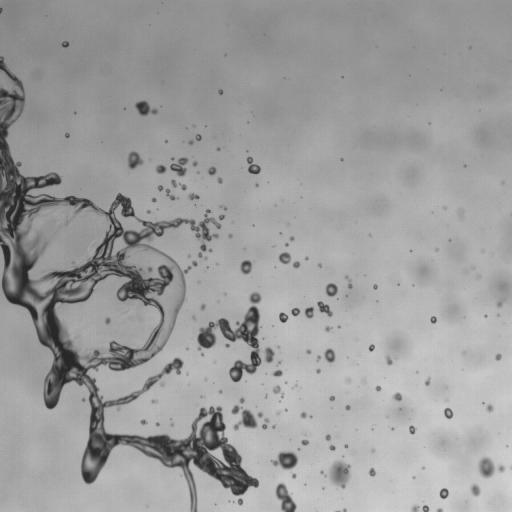droplet: (320, 459, 351, 489), (270, 451, 298, 479), (478, 456, 505, 478), (134, 100, 158, 116), (170, 157, 188, 177), (127, 150, 143, 169), (246, 156, 260, 175), (263, 346, 275, 363), (325, 282, 337, 297), (324, 348, 335, 364), (240, 260, 252, 274), (272, 384, 284, 398), (469, 483, 481, 497), (278, 252, 291, 264), (442, 407, 453, 419), (304, 306, 314, 319), (438, 488, 449, 499), (9, 149, 20, 160), (18, 165, 29, 176), (164, 168, 175, 179), (45, 184, 56, 195), (197, 197, 208, 208), (149, 235, 160, 246), (241, 343, 252, 354), (43, 350, 54, 361), (257, 360, 268, 371), (152, 361, 163, 372), (35, 381, 46, 392), (62, 381, 73, 392), (78, 384, 89, 395), (382, 386, 393, 397), (99, 389, 110, 400), (334, 396, 345, 407), (221, 412, 232, 423), (104, 423, 115, 434), (140, 426, 151, 437), (222, 427, 233, 438), (176, 429, 187, 440), (110, 444, 121, 455), (329, 450, 340, 461), (97, 467, 108, 478), (279, 468, 290, 479), (474, 474, 485, 485), (324, 479, 335, 490), (286, 485, 297, 496), (431, 496, 442, 507), (155, 164, 167, 174), (278, 312, 288, 322), (289, 307, 300, 316), (271, 368, 282, 377), (187, 192, 199, 200), (207, 166, 217, 175), (496, 298, 505, 308), (103, 315, 112, 325), (392, 392, 402, 401), (135, 314, 144, 323), (3, 58, 12, 67), (4, 134, 13, 143), (199, 163, 208, 172), (171, 186, 180, 195), (28, 187, 37, 196), (210, 209, 219, 218), (165, 212, 174, 221), (146, 213, 155, 222), (193, 214, 202, 223), (180, 222, 189, 231), (322, 295, 331, 304), (488, 305, 497, 314), (20, 307, 29, 316), (212, 327, 221, 336), (235, 337, 244, 346), (257, 349, 266, 358), (242, 355, 251, 364), (99, 363, 108, 372), (241, 401, 250, 410), (102, 406, 111, 415), (233, 412, 242, 421), (146, 415, 155, 424), (151, 427, 160, 436), (80, 432, 89, 441), (491, 457, 500, 466), (322, 463, 331, 472), (246, 468, 255, 477), (491, 469, 500, 478), (178, 477, 187, 486), (385, 355, 393, 365), (368, 467, 376, 477), (458, 208, 464, 220), (485, 403, 493, 412), (409, 425, 417, 434), (232, 505, 243, 511), (272, 505, 283, 511), (324, 325, 333, 332), (424, 376, 430, 386), (292, 261, 300, 268), (199, 303, 206, 311), (344, 376, 351, 384), (430, 315, 436, 324), (300, 439, 309, 445), (368, 344, 375, 351), (135, 95, 142, 102), (23, 96, 30, 103), (147, 101, 154, 108), (131, 107, 138, 114), (6, 126, 13, 133), (121, 159, 128, 166), (134, 164, 141, 171), (170, 170, 177, 177), (210, 173, 217, 180), (59, 174, 66, 181), (174, 175, 181, 182), (185, 186, 192, 193), (122, 190, 129, 197), (93, 199, 100, 206), (148, 202, 155, 209), (143, 214, 150, 221), (206, 222, 213, 229), (163, 227, 170, 234), (280, 245, 287, 252), (289, 255, 296, 262), (297, 256, 304, 263), (299, 259, 306, 266), (250, 263, 257, 270), (257, 288, 264, 295), (245, 300, 252, 307), (254, 301, 261, 308), (312, 305, 319, 312), (257, 308, 264, 315), (176, 311, 183, 318), (257, 317, 264, 324), (201, 321, 208, 328), (229, 323, 236, 330), (254, 332, 261, 339), (192, 340, 199, 347), (333, 350, 340, 357), (309, 352, 316, 359), (272, 353, 279, 360), (166, 356, 173, 363), (127, 366, 134, 373), (123, 367, 130, 374), (86, 368, 93, 375), (161, 373, 168, 380), (274, 375, 281, 382), (351, 377, 358, 384), (287, 378, 294, 385), (136, 382, 143, 389), (280, 384, 287, 391), (265, 386, 272, 393), (122, 389, 129, 396), (110, 393, 117, 400), (38, 400, 45, 407), (55, 401, 62, 408), (120, 403, 127, 410), (84, 406, 91, 413), (192, 409, 199, 416), (250, 409, 257, 416), (83, 416, 90, 423), (255, 417, 262, 424), (238, 423, 245, 430), (329, 437, 336, 444), (80, 441, 87, 448), (335, 442, 342, 449), (282, 446, 289, 453), (235, 447, 242, 454), (294, 450, 301, 457), (271, 453, 278, 460), (105, 456, 112, 463), (342, 457, 349, 464), (153, 458, 160, 465), (239, 461, 246, 468), (275, 463, 282, 470), (174, 465, 181, 472), (290, 465, 297, 472), (285, 467, 292, 474), (348, 467, 355, 474), (75, 472, 82, 479), (214, 479, 221, 486), (246, 485, 253, 492), (195, 488, 202, 495), (269, 488, 276, 495), (465, 488, 472, 495), (290, 494, 297, 501), (275, 498, 282, 505), (61, 41, 69, 47), (195, 134, 201, 141), (218, 214, 225, 220), (495, 353, 501, 360), (360, 378, 367, 384), (374, 385, 381, 391), (257, 411, 263, 418), (140, 419, 147, 425), (325, 434, 331, 441), (329, 444, 336, 450), (157, 185, 163, 191), (159, 381, 165, 387), (0, 251, 4, 260), (0, 289, 4, 298), (316, 355, 321, 362), (150, 399, 158, 403), (218, 89, 223, 95), (188, 139, 193, 145), (192, 160, 197, 166), (217, 177, 222, 183), (329, 396, 335, 401), (345, 404, 350, 410), (183, 507, 190, 511), (404, 507, 411, 511), (428, 507, 435, 511), (151, 197, 156, 202), (289, 236, 294, 241), (317, 262, 322, 267), (191, 315, 196, 320), (306, 349, 311, 354), (461, 350, 466, 355), (316, 368, 321, 373), (371, 448, 376, 453), (0, 0, 5, 5), (64, 36, 69, 41), (16, 74, 21, 79), (21, 81, 26, 86), (146, 111, 151, 116), (193, 139, 198, 144), (183, 141, 188, 146), (127, 147, 132, 152), (247, 151, 252, 156), (179, 152, 184, 157), (243, 152, 248, 157), (138, 153, 143, 158), (193, 156, 198, 161), (12, 158, 17, 163), (173, 158, 178, 163), (244, 162, 249, 167), (181, 163, 186, 168), (193, 165, 198, 170), (165, 166, 170, 171), (259, 168, 264, 173), (184, 170, 189, 175), (57, 171, 62, 176), (34, 172, 39, 177), (204, 172, 209, 177), (249, 172, 254, 177), (221, 177, 226, 182), (167, 183, 172, 188), (176, 184, 181, 189), (160, 189, 165, 194), (193, 189, 198, 194), (65, 191, 70, 196), (75, 193, 80, 198), (84, 194, 89, 199), (110, 195, 115, 200), (146, 196, 151, 201), (192, 197, 197, 202), (223, 201, 228, 206), (130, 202, 135, 207), (104, 206, 109, 211), (219, 209, 224, 214), (133, 210, 138, 215), (206, 212, 211, 217), (180, 214, 185, 219), (186, 215, 191, 220), (214, 216, 219, 221), (151, 218, 156, 223), (193, 221, 198, 226), (185, 222, 190, 227), (191, 229, 196, 234), (207, 230, 212, 235), (231, 231, 236, 236), (287, 231, 292, 236), (210, 236, 215, 241), (284, 237, 289, 242), (203, 239, 208, 244), (159, 246, 164, 251), (164, 249, 169, 254), (201, 250, 206, 255), (167, 251, 172, 256), (170, 253, 175, 258), (274, 253, 279, 258), (243, 255, 248, 260), (173, 256, 178, 261), (194, 256, 199, 261), (187, 260, 192, 265), (236, 260, 241, 265), (276, 260, 281, 265), (180, 265, 185, 270), (190, 265, 195, 270), (296, 266, 301, 271), (245, 272, 250, 277), (183, 273, 188, 278), (329, 278, 334, 283), (343, 279, 348, 284), (350, 280, 355, 285), (335, 282, 340, 287), (376, 282, 381, 287), (336, 287, 341, 292), (247, 289, 252, 294), (184, 291, 189, 296), (334, 292, 339, 297), (494, 296, 499, 301), (196, 301, 201, 306), (491, 301, 496, 306), (501, 302, 506, 307), (290, 303, 295, 308), (304, 303, 309, 308), (328, 306, 333, 311), (496, 307, 501, 312), (299, 308, 304, 313), (177, 309, 182, 314), (321, 311, 326, 316), (287, 312, 292, 317), (331, 312, 336, 317), (223, 314, 228, 319), (274, 315, 279, 320), (238, 318, 243, 323), (275, 318, 280, 323), (174, 319, 179, 324), (320, 324, 325, 329), (332, 325, 337, 330), (31, 328, 36, 333), (171, 328, 176, 333), (320, 328, 325, 333), (194, 330, 199, 335), (168, 334, 173, 339), (33, 335, 38, 340), (224, 338, 229, 343), (162, 345, 167, 350), (209, 345, 214, 350), (330, 345, 335, 350), (200, 346, 205, 351), (249, 346, 254, 351), (271, 346, 276, 351), (301, 347, 306, 352), (496, 348, 501, 353), (153, 353, 158, 358), (490, 353, 495, 358), (320, 354, 325, 359), (179, 355, 184, 360), (389, 355, 394, 360), (500, 355, 505, 360), (150, 356, 155, 361), (381, 358, 386, 363), (330, 360, 335, 365), (142, 361, 147, 366), (228, 362, 233, 367), (387, 364, 392, 369), (255, 365, 260, 370), (277, 365, 282, 370), (179, 366, 184, 371), (170, 368, 175, 373), (110, 369, 115, 374), (281, 370, 286, 375), (422, 375, 427, 380), (227, 377, 232, 382), (429, 379, 434, 384), (94, 381, 99, 386), (370, 384, 375, 389), (149, 385, 154, 390), (371, 388, 376, 393), (390, 389, 395, 394), (96, 390, 101, 395), (120, 392, 125, 397), (275, 392, 280, 397), (400, 392, 405, 397), (132, 398, 137, 403), (84, 399, 89, 404), (393, 399, 398, 404), (484, 399, 489, 404), (329, 400, 334, 405), (490, 401, 495, 406), (442, 403, 447, 408), (41, 404, 46, 409), (111, 404, 116, 409), (228, 404, 233, 409), (340, 404, 345, 409), (481, 404, 486, 409), (204, 406, 209, 411), (492, 406, 497, 411), (296, 409, 301, 414), (305, 410, 310, 415), (489, 410, 494, 415), (252, 413, 257, 418), (139, 414, 144, 419), (304, 415, 309, 420), (441, 415, 446, 420), (144, 416, 149, 421), (300, 417, 305, 422), (266, 422, 271, 427), (404, 427, 409, 432), (128, 430, 133, 435), (329, 432, 334, 437), (320, 434, 325, 439), (301, 435, 306, 440), (226, 439, 231, 444), (326, 440, 331, 445), (297, 442, 302, 447), (137, 450, 142, 455), (77, 455, 82, 460), (268, 462, 273, 467), (373, 466, 378, 471), (504, 466, 509, 471), (364, 467, 369, 472), (374, 472, 379, 477), (295, 473, 300, 478), (256, 476, 261, 481), (257, 481, 262, 486), (272, 483, 277, 488), (441, 483, 446, 488), (336, 485, 341, 490), (435, 487, 440, 492), (184, 489, 189, 494), (238, 493, 243, 498), (234, 494, 239, 499), (185, 495, 190, 500), (196, 506, 201, 511), (65, 132, 69, 138), (146, 210, 152, 214), (436, 508, 443, 511), (0, 69, 3, 76), (0, 248, 3, 255), (0, 287, 3, 294), (254, 183, 259, 187), (442, 206, 447, 210), (228, 233, 232, 238), (284, 242, 289, 246), (373, 284, 377, 289), (81, 397, 85, 402), (276, 410, 280, 415), (170, 422, 174, 427), (271, 424, 275, 429), (508, 464, 511, 470), (216, 147, 220, 151), (368, 233, 372, 237), (187, 254, 191, 258), (304, 256, 308, 260), (483, 314, 487, 318), (276, 345, 280, 349), (185, 346, 189, 350), (218, 389, 222, 393), (155, 422, 159, 426), (344, 444, 348, 448), (264, 393, 267, 398), (200, 395, 205, 398), (389, 427, 394, 430), (293, 508, 298, 511), (442, 508, 447, 511), (192, 124, 196, 127), (164, 139, 167, 143), (170, 157, 174, 160), (340, 157, 343, 161), (448, 238, 451, 242), (435, 248, 439, 251), (215, 262, 219, 265), (223, 292, 227, 295), (337, 325, 341, 328), (204, 377, 207, 381), (445, 385, 448, 389), (278, 399, 281, 403), (421, 466, 425, 469), (412, 475, 415, 479), (0, 51, 2, 56), (0, 275, 2, 280), (0, 280, 2, 285), (0, 285, 2, 290), (468, 46, 471, 49), (123, 107, 126, 110), (463, 164, 466, 167), (196, 171, 199, 174), (501, 181, 504, 184), (156, 207, 159, 210), (242, 247, 245, 250), (409, 249, 412, 252), (197, 280, 200, 283), (345, 294, 348, 297), (262, 336, 265, 339), (284, 381, 287, 384), (445, 399, 448, 402), (284, 408, 287, 411), (169, 417, 172, 420), (505, 444, 508, 447), (321, 486, 324, 489), (1, 9, 4, 12), (59, 40, 62, 43), (68, 41, 71, 44), (66, 45, 69, 48), (62, 46, 65, 49), (340, 72, 343, 75), (343, 75, 346, 78), (339, 77, 342, 80), (222, 90, 225, 93), (216, 92, 219, 95), (120, 105, 123, 108), (74, 108, 77, 111), (70, 110, 73, 113), (20, 112, 23, 115), (75, 112, 78, 115), (71, 113, 74, 116), (17, 116, 20, 119), (66, 129, 69, 132), (68, 132, 71, 135), (200, 134, 203, 137), (62, 135, 65, 138), (68, 135, 71, 138), (167, 139, 170, 142), (161, 140, 164, 143), (213, 146, 216, 149), (219, 146, 222, 149), (216, 150, 219, 153), (169, 154, 172, 157), (343, 157, 346, 160), (337, 159, 340, 162), (251, 161, 254, 164), (465, 161, 468, 164), (460, 163, 463, 166), (259, 165, 262, 168), (463, 167, 466, 170), (195, 173, 198, 176), (218, 183, 221, 186), (258, 183, 261, 186), (252, 184, 255, 187), (255, 186, 258, 189), (155, 188, 158, 191), (155, 197, 158, 200), (171, 199, 174, 202), (151, 201, 154, 204), (218, 201, 221, 204), (207, 206, 210, 209), (226, 207, 229, 210), (202, 210, 205, 213), (251, 220, 254, 223), (254, 223, 257, 226), (249, 224, 252, 227), (219, 226, 222, 229), (278, 228, 281, 231), (228, 230, 231, 233), (276, 233, 279, 236), (159, 235, 162, 238), (231, 236, 234, 239), (293, 236, 296, 239), (450, 236, 453, 239), (450, 240, 453, 243), (410, 246, 413, 249), (411, 250, 414, 253), (407, 251, 410, 254), (307, 255, 310, 258), (314, 262, 317, 265), (321, 263, 324, 266), (203, 266, 206, 269), (208, 266, 211, 269), (316, 266, 319, 269), (187, 269, 190, 272), (348, 275, 351, 278), (394, 280, 397, 283), (399, 282, 402, 285), (370, 283, 373, 286), (396, 285, 399, 288), (376, 286, 379, 289), (350, 287, 353, 290), (371, 288, 374, 291), (375, 296, 378, 299), (204, 306, 207, 309), (280, 309, 283, 312), (482, 311, 485, 314), (486, 312, 489, 315), (486, 315, 489, 318), (435, 316, 438, 319), (481, 316, 484, 319), (427, 318, 430, 321), (435, 320, 438, 323), (431, 322, 434, 325), (328, 323, 331, 326), (339, 323, 342, 326), (338, 327, 341, 330), (371, 341, 374, 344), (183, 344, 186, 347), (223, 346, 226, 349), (307, 346, 310, 349), (372, 348, 375, 351), (306, 353, 309, 356), (313, 369, 316, 372), (412, 369, 415, 372), (319, 370, 322, 373), (297, 382, 300, 385), (377, 382, 380, 385), (422, 383, 425, 386), (293, 386, 296, 389), (296, 386, 299, 389), (216, 387, 219, 390), (221, 388, 224, 391), (215, 390, 218, 393), (377, 390, 380, 393), (201, 392, 204, 395), (331, 392, 334, 395), (262, 393, 265, 396), (283, 394, 286, 397), (327, 394, 330, 397), (196, 395, 199, 398), (334, 396, 337, 399), (263, 398, 266, 401), (326, 398, 329, 401), (478, 400, 481, 403), (152, 402, 155, 405), (347, 402, 350, 405), (285, 405, 288, 408), (287, 408, 290, 411), (281, 409, 284, 412), (346, 409, 349, 412), (451, 409, 454, 412), (441, 412, 444, 415), (169, 414, 172, 417), (311, 416, 314, 419), (450, 416, 453, 419), (154, 419, 157, 422), (169, 419, 172, 422), (158, 421, 161, 424), (173, 422, 176, 425), (408, 422, 411, 425), (389, 424, 392, 427), (392, 424, 395, 427), (413, 424, 416, 427), (274, 425, 277, 428), (368, 425, 371, 428), (372, 425, 375, 428), (271, 428, 274, 431), (389, 429, 392, 432), (392, 429, 395, 432), (414, 429, 417, 432), (409, 433, 412, 436), (344, 441, 347, 444), (507, 442, 510, 445), (347, 443, 350, 446), (341, 444, 344, 447), (334, 447, 337, 450), (344, 447, 347, 450), (330, 449, 333, 452), (424, 464, 427, 467), (418, 465, 421, 468), (318, 467, 321, 470), (423, 468, 426, 471), (420, 469, 423, 472), (411, 472, 414, 475), (320, 474, 323, 477), (369, 475, 372, 478), (415, 475, 418, 478), (409, 477, 412, 480), (412, 478, 415, 481), (305, 480, 308, 483), (300, 482, 303, 485), (305, 484, 308, 487), (319, 488, 322, 491), (323, 488, 326, 491), (447, 489, 450, 492), (436, 492, 439, 495), (439, 497, 442, 500), (444, 497, 447, 500), (211, 503, 214, 506), (335, 507, 338, 510), (339, 507, 342, 510), (355, 363, 359, 365), (224, 53, 226, 56), (340, 76, 343, 78), (74, 111, 76, 114), (428, 122, 431, 124), (204, 125, 207, 127), (272, 245, 275, 247), (206, 266, 209, 268), (497, 313, 499, 316), (346, 356, 348, 359), (416, 370, 418, 373), (186, 372, 188, 375), (265, 372, 267, 375), (245, 380, 247, 383), (482, 401, 484, 404), (371, 428, 374, 430), (297, 448, 300, 450), (342, 455, 345, 457), (346, 509, 349, 511), (247, 121, 249, 123), (246, 150, 248, 152), (300, 196, 302, 198), (274, 204, 276, 206), (252, 224, 254, 226), (274, 266, 276, 268), (397, 283, 399, 285), (412, 284, 414, 286), (376, 300, 378, 302), (261, 383, 263, 385), (399, 408, 401, 410), (304, 483, 306, 485), (214, 503, 216, 505), (0, 4, 1, 7)
ligament: (275, 482, 297, 511), (317, 301, 332, 317), (171, 179, 187, 190), (165, 188, 179, 200), (410, 504, 429, 511), (344, 275, 352, 289), (261, 417, 269, 429), (291, 380, 298, 389), (218, 204, 227, 210), (301, 431, 311, 436), (275, 360, 281, 366), (334, 508, 346, 511), (228, 500, 234, 503), (0, 7, 2, 14), (278, 232, 282, 234), (213, 360, 215, 364), (271, 324, 274, 326)
